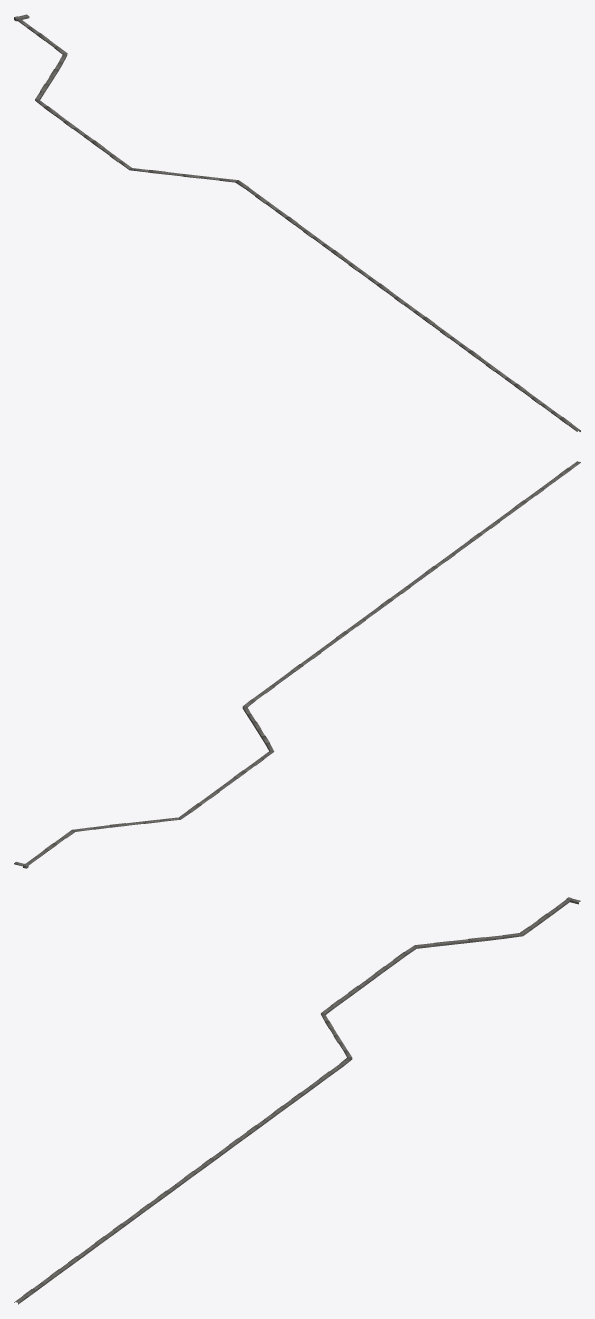
Rendered from SM_ENV_LKNVLD_Ground_Left_sideTrim_Middle_01.FBX.
The picture shows the model from 3 angles, top to bottom: view 1: azimuth 30°, elevation 25°; view 2: azimuth 150°, elevation 25°; view 3: azimuth 330°, elevation 25°; orthographic projection. The views are drawn at different scales.
Visible parts, largest first — view 1: SM_ENV_LKNVLD_Ground_Left_sideTrim_Middle_01; view 2: SM_ENV_LKNVLD_Ground_Left_sideTrim_Middle_01; view 3: SM_ENV_LKNVLD_Ground_Left_sideTrim_Middle_01.
Part boxes in pixels (x1,y1,x2,y2): SM_ENV_LKNVLD_Ground_Left_sideTrim_Middle_01: (14,14,580,431); SM_ENV_LKNVLD_Ground_Left_sideTrim_Middle_01: (14,461,580,868); SM_ENV_LKNVLD_Ground_Left_sideTrim_Middle_01: (14,897,580,1304).
Bounding box in the file's own units: 1074 × 34.52 × 12732.
